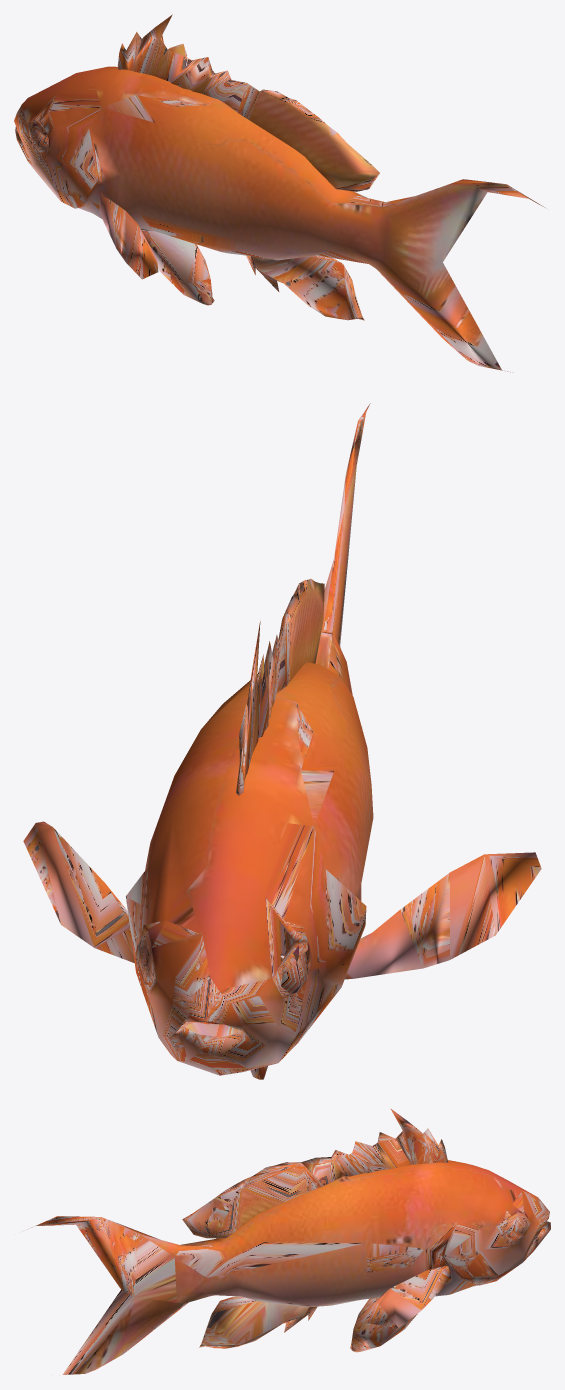
File: juweelbaarsje-ver.glb
The picture shows the model from 3 angles, top to bottom: view 1: azimuth 30°, elevation 25°; view 2: azimuth 150°, elevation 25°; view 3: azimuth 270°, elevation 25°; orthographic projection. The views are drawn at different scales.
Visible parts, largest first — view 1: tripo_node_41c85e2a-a762-430f-852b-832e8d8e0dce; view 2: tripo_node_41c85e2a-a762-430f-852b-832e8d8e0dce; view 3: tripo_node_41c85e2a-a762-430f-852b-832e8d8e0dce.
Boxes of the visible parts, box(x1,y1,x2,y2) form: tripo_node_41c85e2a-a762-430f-852b-832e8d8e0dce: box(14, 14, 546, 372); tripo_node_41c85e2a-a762-430f-852b-832e8d8e0dce: box(23, 403, 541, 1079); tripo_node_41c85e2a-a762-430f-852b-832e8d8e0dce: box(27, 1108, 550, 1375).
Bounding box in the file's own units: 0.1685 × 0.1832 × 0.3744.
Materials: 1 (1 with a texture image).
